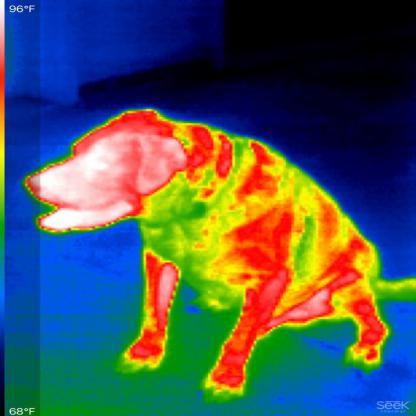dog: (17, 98, 394, 397)
